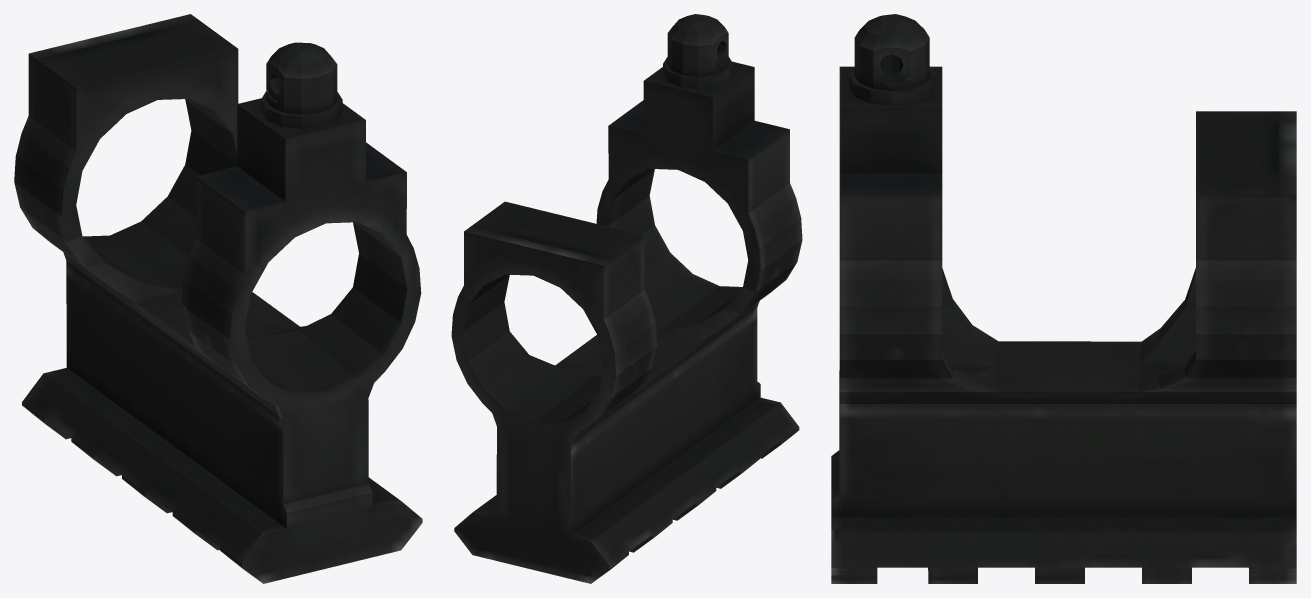
3 views of the same model, side by side, from view 1: azimuth 30°, elevation 25°; view 2: azimuth 150°, elevation 25°; view 3: azimuth 270°, elevation 25° (orthographic). The views are drawn at different scales.
Visible parts, largest first — view 1: TW_56ea8d2fd2720b7c698b4570_PZ_Import; view 2: TW_56ea8d2fd2720b7c698b4570_PZ_Import; view 3: TW_56ea8d2fd2720b7c698b4570_PZ_Import.
Boxes of the visible parts, x1,y1,x2,y2 form: TW_56ea8d2fd2720b7c698b4570_PZ_Import: [14, 14, 422, 583]; TW_56ea8d2fd2720b7c698b4570_PZ_Import: [451, 14, 802, 583]; TW_56ea8d2fd2720b7c698b4570_PZ_Import: [831, 14, 1296, 583].
Size of the model in its own units: 0.0129 by 0.0258 by 0.0323.
Materials: 1 (1 with a texture image).
